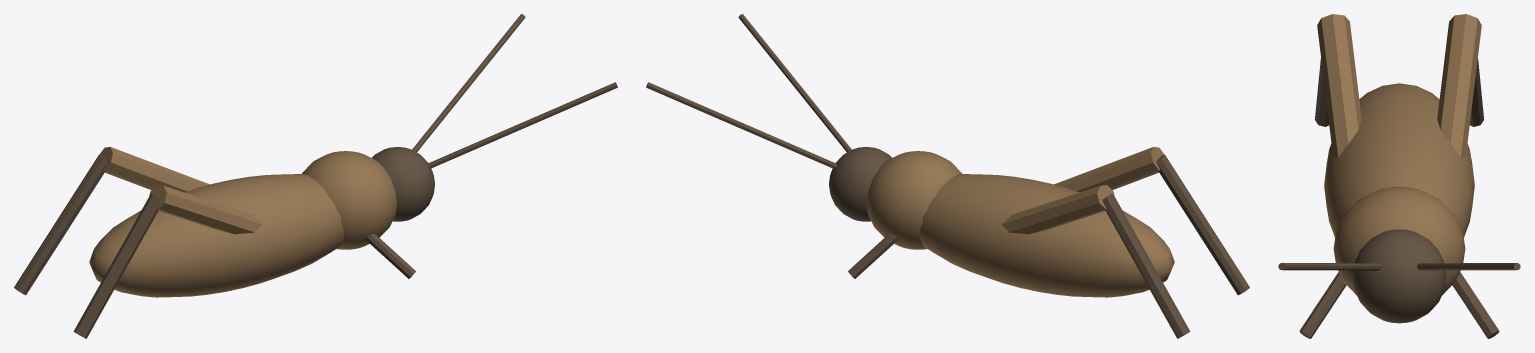
The model's file is cricket.glb.
The picture shows the model from 3 angles, left to right: view 1: azimuth 30°, elevation 25°; view 2: azimuth 150°, elevation 25°; view 3: azimuth 270°, elevation 25°; orthographic projection. The views are drawn at different scales.
Visible parts, largest first — view 1: body, thorax, head, thigh-1, shin-1, shin1, thigh1, feeler-1, feeler1, fore-1; view 2: body, thorax, head, thigh1, shin1, shin-1, thigh-1, feeler1, feeler-1, fore1; view 3: body, head, thorax, thigh-1, thigh1, fore-1, fore1, feeler-1, feeler1, shin-1, shin1.
Boxes of the visible parts, bbox=[...] form: body: bbox=[89, 174, 343, 297]; thorax: bbox=[301, 151, 397, 249]; head: bbox=[372, 147, 434, 221]; thigh-1: bbox=[149, 185, 262, 234]; shin-1: bbox=[73, 193, 161, 338]; shin1: bbox=[14, 155, 107, 295]; thigh1: bbox=[99, 147, 209, 192]; feeler-1: bbox=[427, 82, 617, 168]; feeler1: bbox=[412, 14, 525, 152]; fore-1: bbox=[366, 234, 415, 278]; body: bbox=[920, 174, 1174, 297]; thorax: bbox=[866, 151, 962, 249]; head: bbox=[829, 147, 891, 221]; thigh1: bbox=[1001, 185, 1114, 234]; shin1: bbox=[1102, 193, 1190, 338]; shin-1: bbox=[1156, 155, 1249, 295]; thigh-1: bbox=[1054, 147, 1164, 192]; feeler1: bbox=[646, 82, 836, 168]; feeler-1: bbox=[738, 14, 851, 152]; fore1: bbox=[848, 234, 897, 278]; body: bbox=[1324, 83, 1474, 237]; head: bbox=[1352, 229, 1446, 323]; thorax: bbox=[1333, 186, 1465, 295]; thigh-1: bbox=[1317, 14, 1361, 157]; thigh1: bbox=[1437, 14, 1481, 157]; fore-1: bbox=[1299, 272, 1346, 338]; fore1: bbox=[1452, 272, 1499, 338]; feeler-1: bbox=[1278, 263, 1381, 270]; feeler1: bbox=[1417, 263, 1520, 270]; shin-1: bbox=[1314, 58, 1329, 126]; shin1: bbox=[1469, 58, 1484, 126].
Bounding box in the file's own units: 1.62 × 0.4583 × 0.5144.
